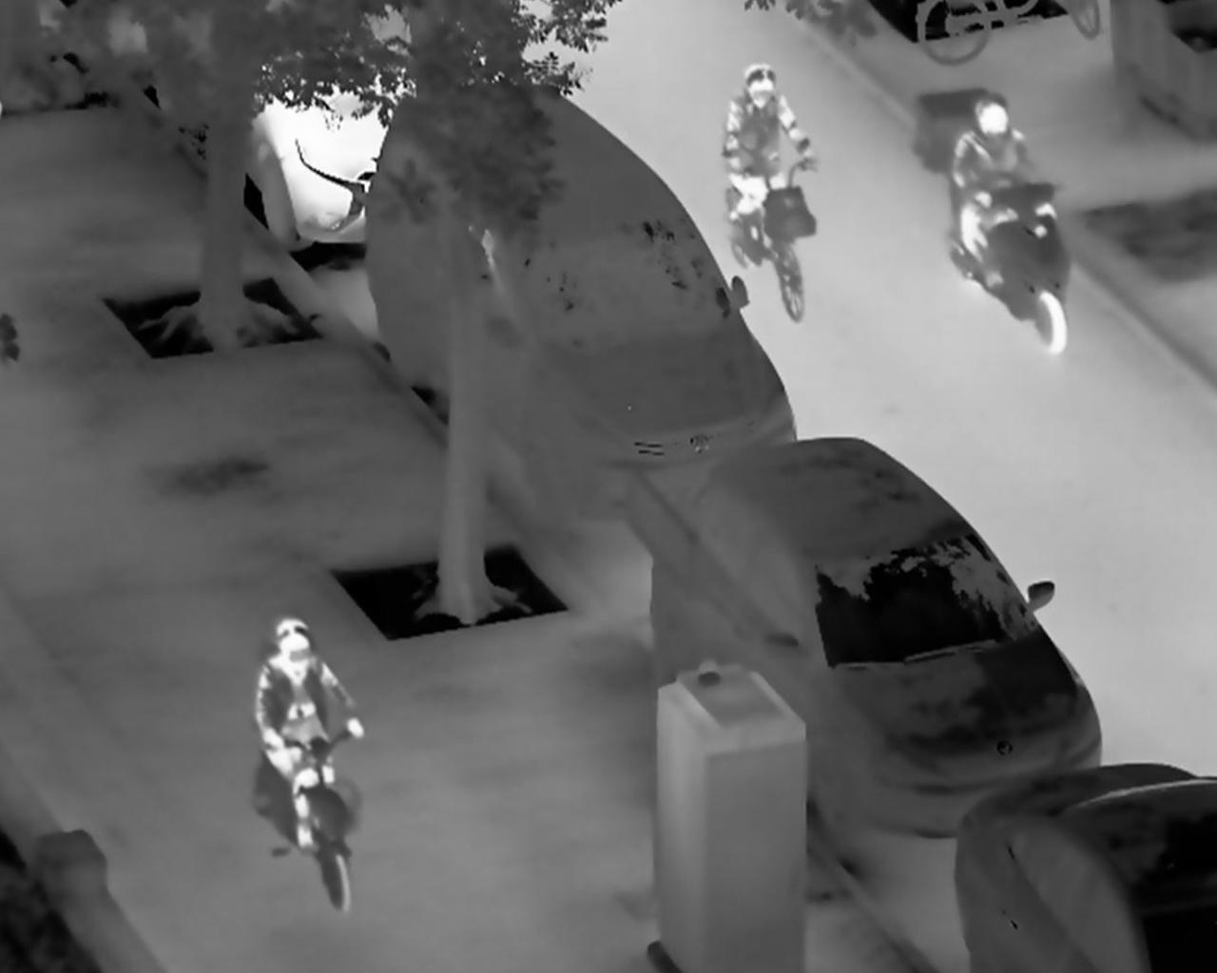person: (253, 618, 368, 852), (951, 89, 1061, 290), (721, 61, 821, 241)
